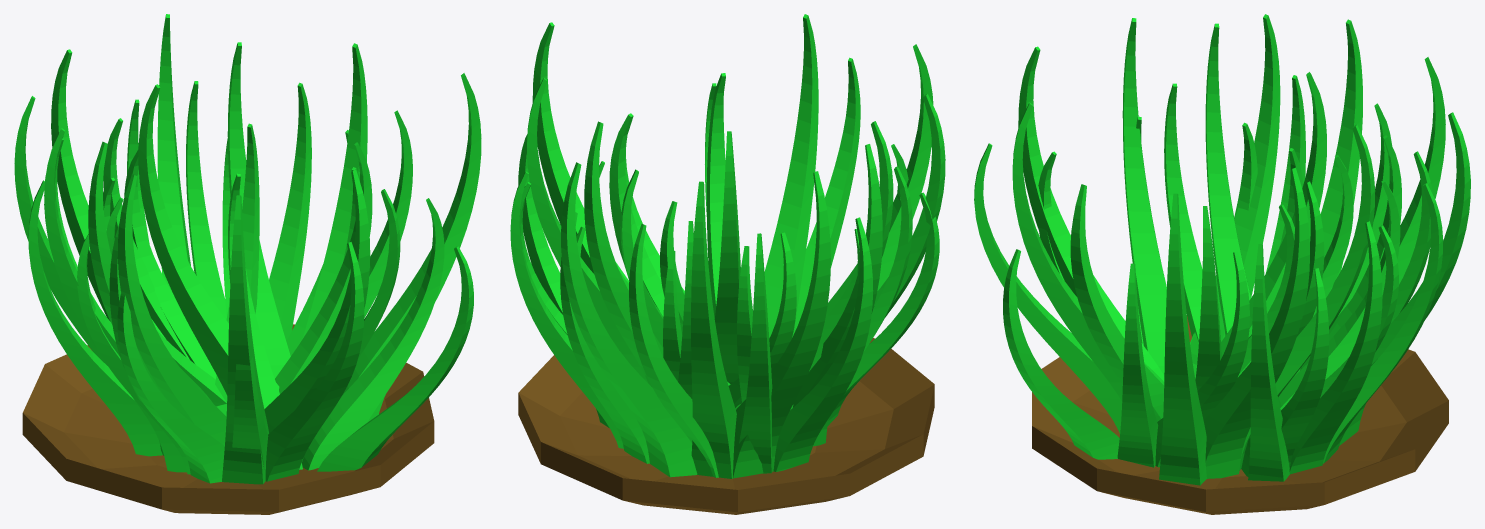
Rendered from GRASS-AND-NOTHING-ESLE.fbx.
The picture shows the model from 3 angles, left to right: view 1: azimuth 30°, elevation 25°; view 2: azimuth 150°, elevation 25°; view 3: azimuth 270°, elevation 25°; orthographic projection. The views are drawn at different scales.
Visible parts, largest first — view 1: Cube.002, Cube.001, Cube, Sphere; view 2: Cube.002, Cube.001, Sphere, Cube; view 3: Cube.002, Cube.001, Cube, Sphere.
Part boxes in pixels (box(x1,y1,x2,y2)): Cube.002: box(14, 14, 481, 484); Cube.001: box(28, 81, 412, 481); Cube: box(77, 130, 473, 483); Sphere: box(22, 324, 434, 514); Cube.002: box(527, 14, 945, 478); Cube.001: box(510, 57, 912, 477); Sphere: box(518, 338, 934, 514); Cube: box(519, 83, 939, 426); Cube.002: box(1012, 14, 1470, 485); Cube.001: box(974, 75, 1443, 481); Cube: box(1003, 116, 1400, 476); Sphere: box(1032, 316, 1448, 514).
Bounding box in the file's own units: 216 × 188 × 228.
